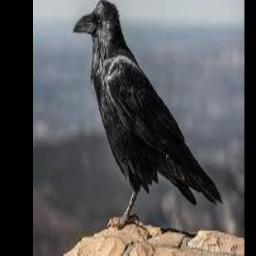Crow: (73, 0, 224, 230)
